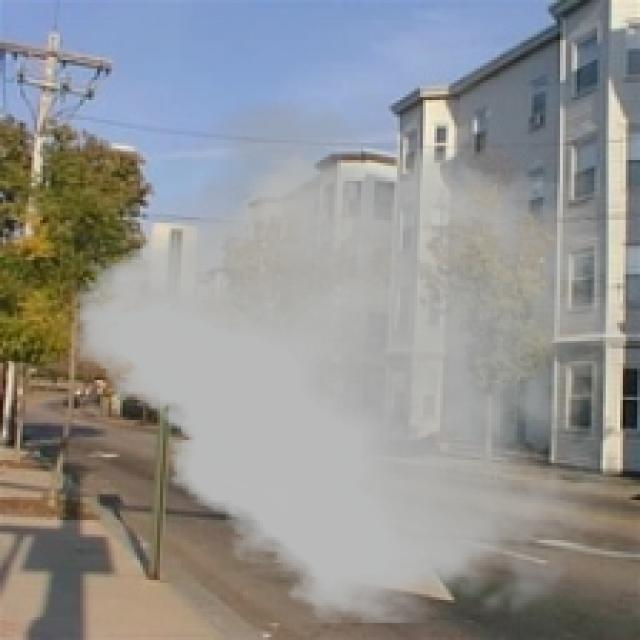Smoke: (74, 86, 623, 632)
